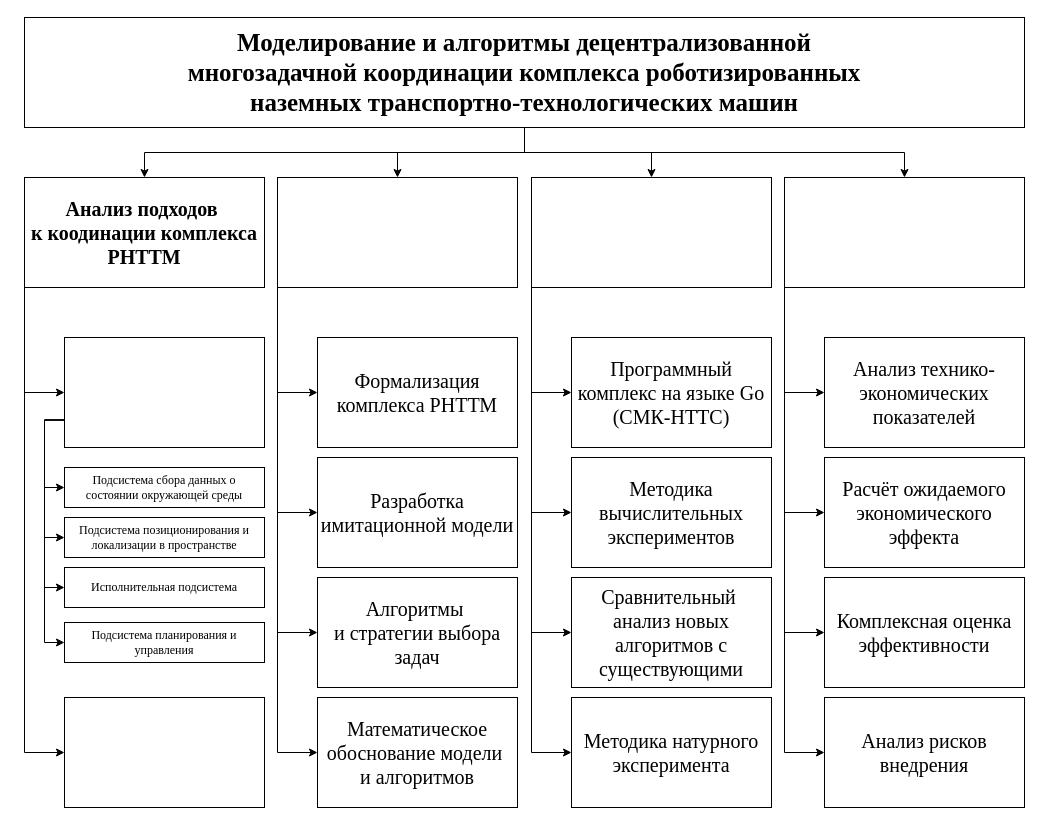
Some shapes in this 1042 by 825 pixel diagram are drawn without their labels. The box of each missing label's shape, as (x1, y1, x2, y2) in pixels:
Анализ архитектуры систем автоматизации РНТТМ: (64, 336, 264, 448)
Классификация существующих методов распределения задач: (64, 696, 264, 808)
Математическая модель и алгоритмы координации: (276, 176, 518, 288)
Оценка эффективности и ожидаемый экономический эффект: (784, 176, 1024, 288)
Программная реализация и экспериментальные исследования: (530, 176, 772, 288)
